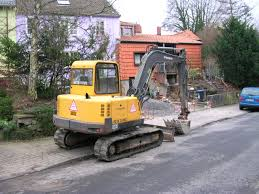excavator: (53, 47, 192, 165)
